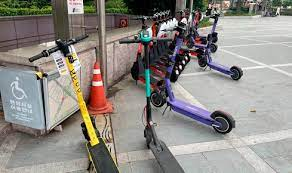kick_board: (30, 34, 118, 173), (118, 30, 184, 173), (198, 13, 242, 80)
kick_handler: (29, 33, 89, 58), (117, 30, 172, 48), (210, 13, 220, 22)
kick_neck: (144, 52, 153, 123)
kick_wheel: (213, 110, 232, 133), (151, 91, 165, 107), (230, 67, 243, 80), (198, 56, 206, 67)
